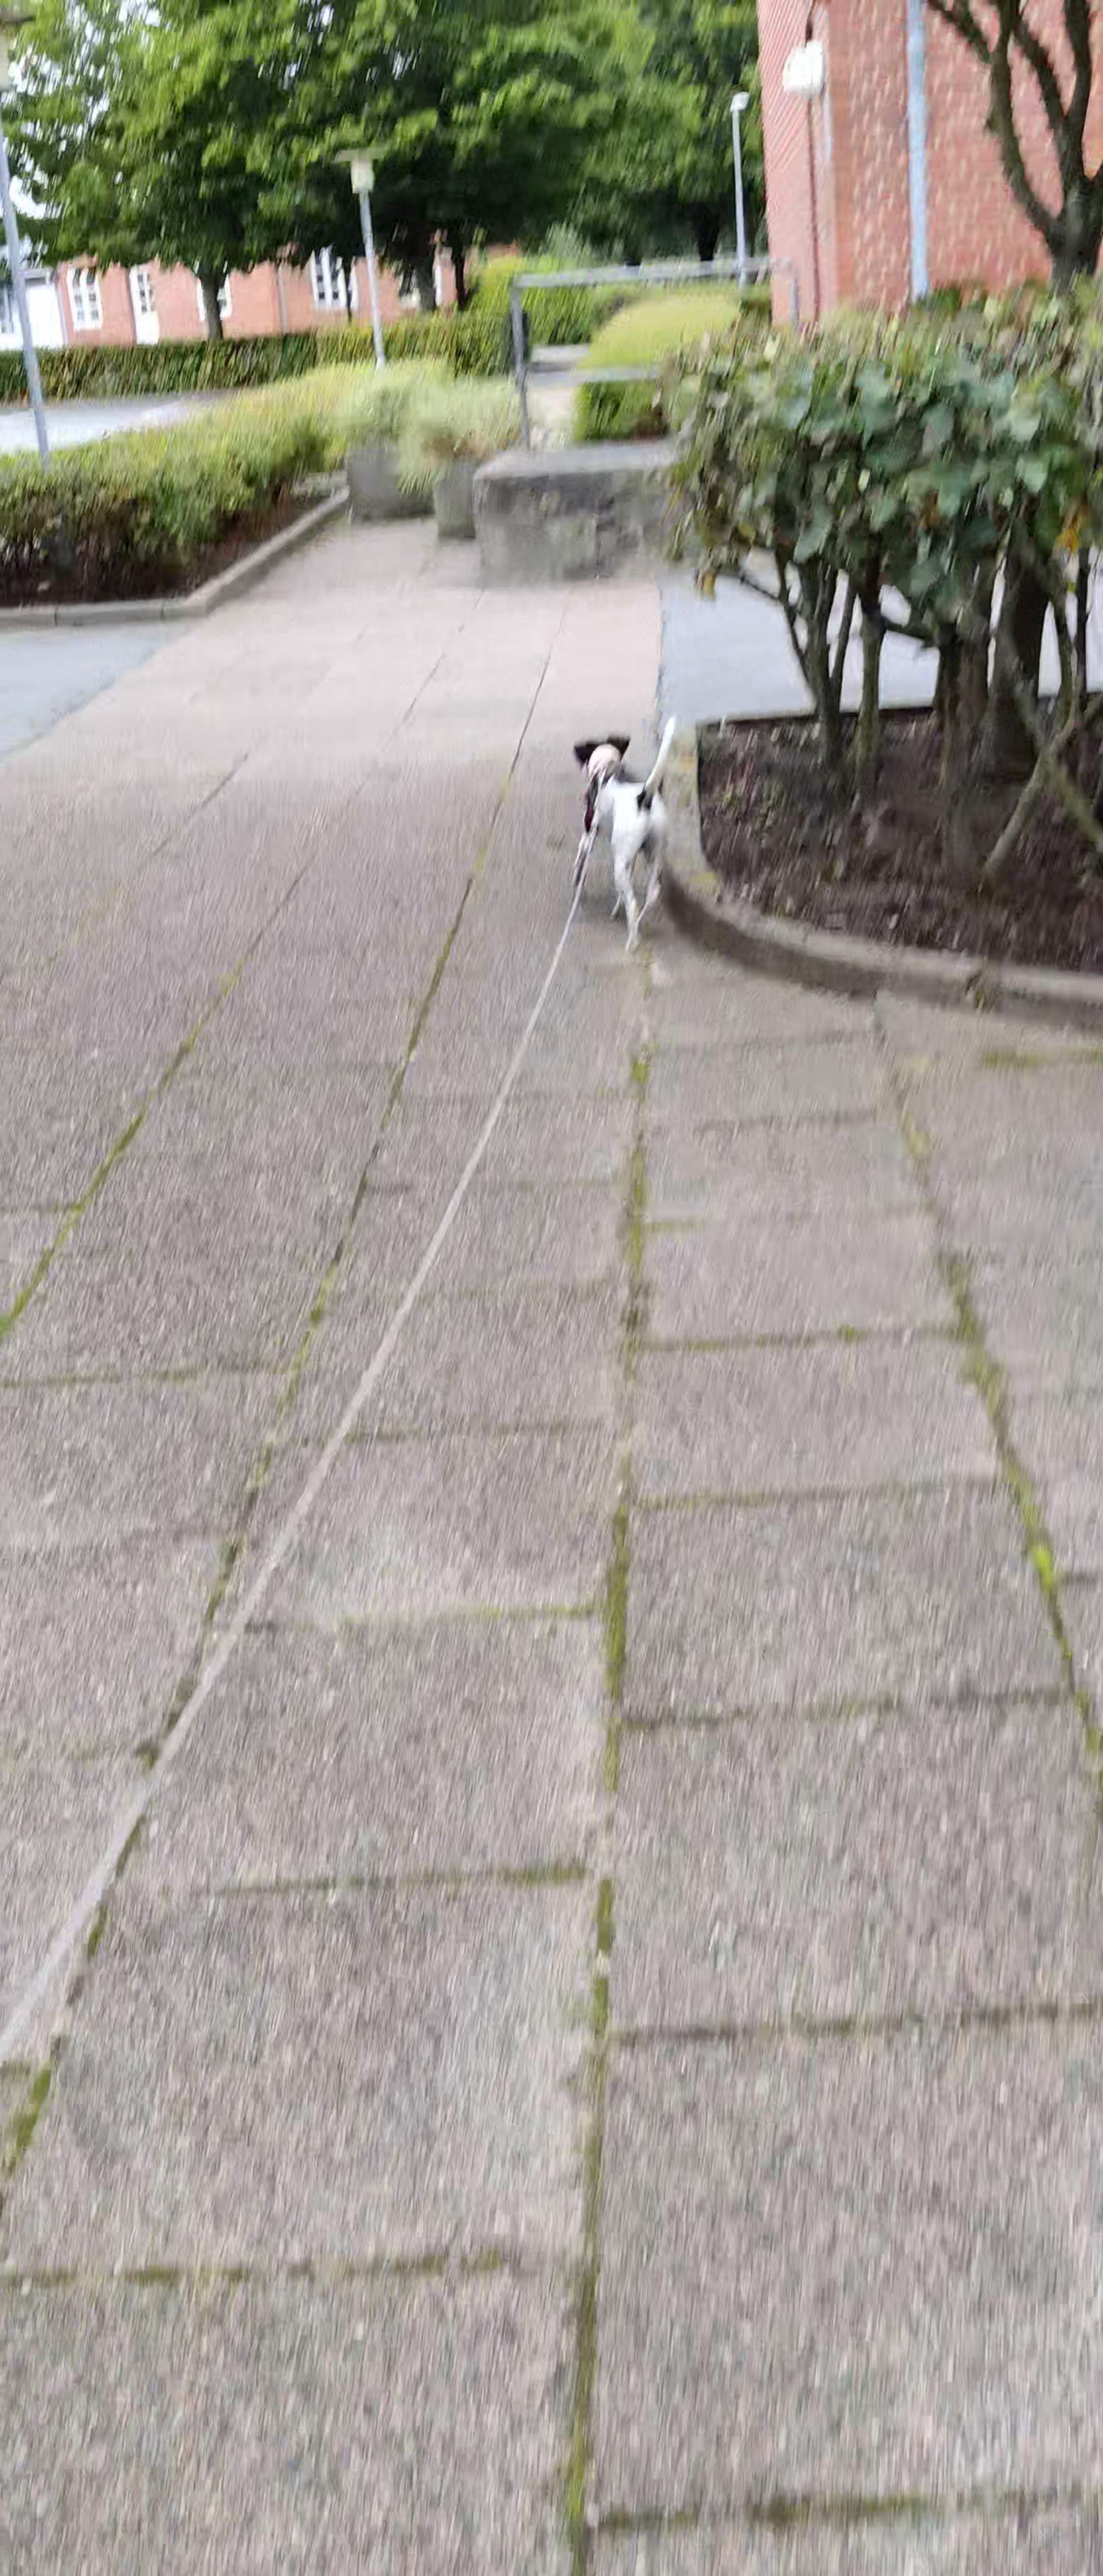Dog: (574, 711, 679, 956)
